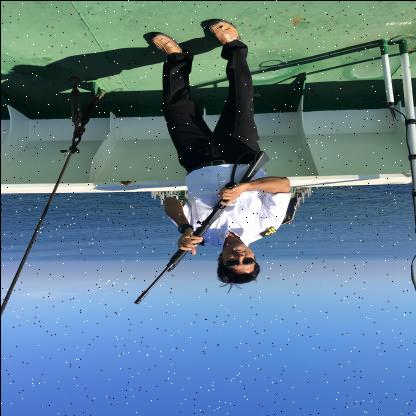rifle: (132, 148, 270, 304)
